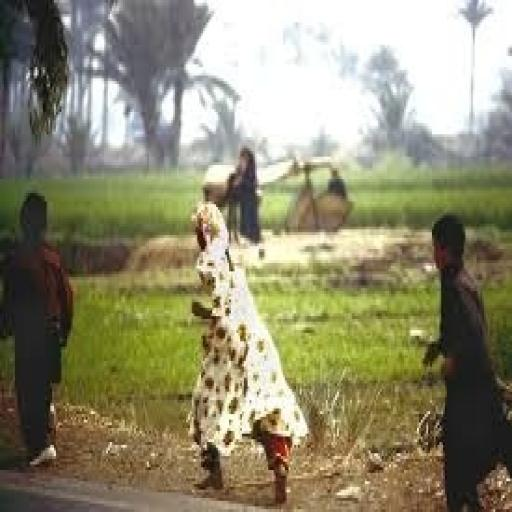running: (184, 160, 313, 509), (419, 210, 510, 509), (0, 187, 76, 472), (224, 143, 266, 249)
